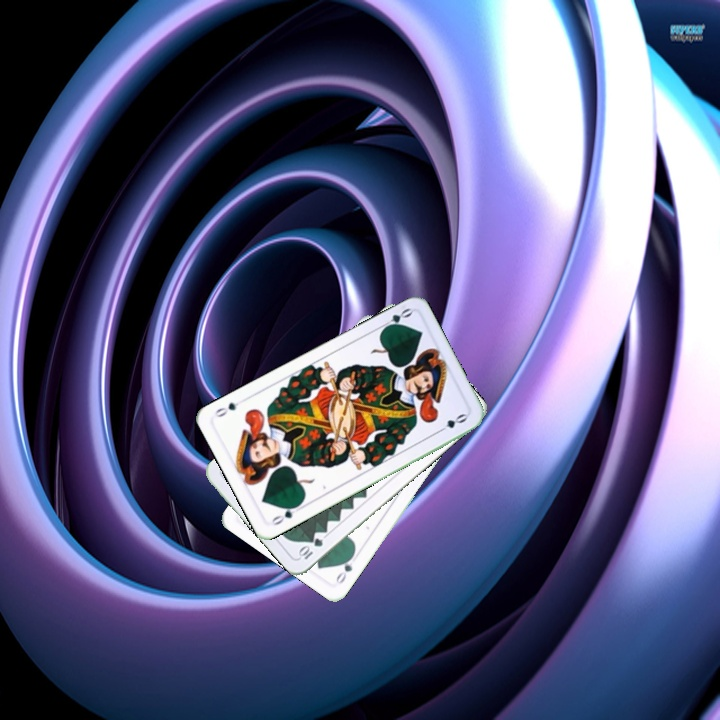G10: (295, 534, 326, 562)
GO: (376, 304, 414, 333), (331, 549, 359, 587), (268, 500, 305, 528)
